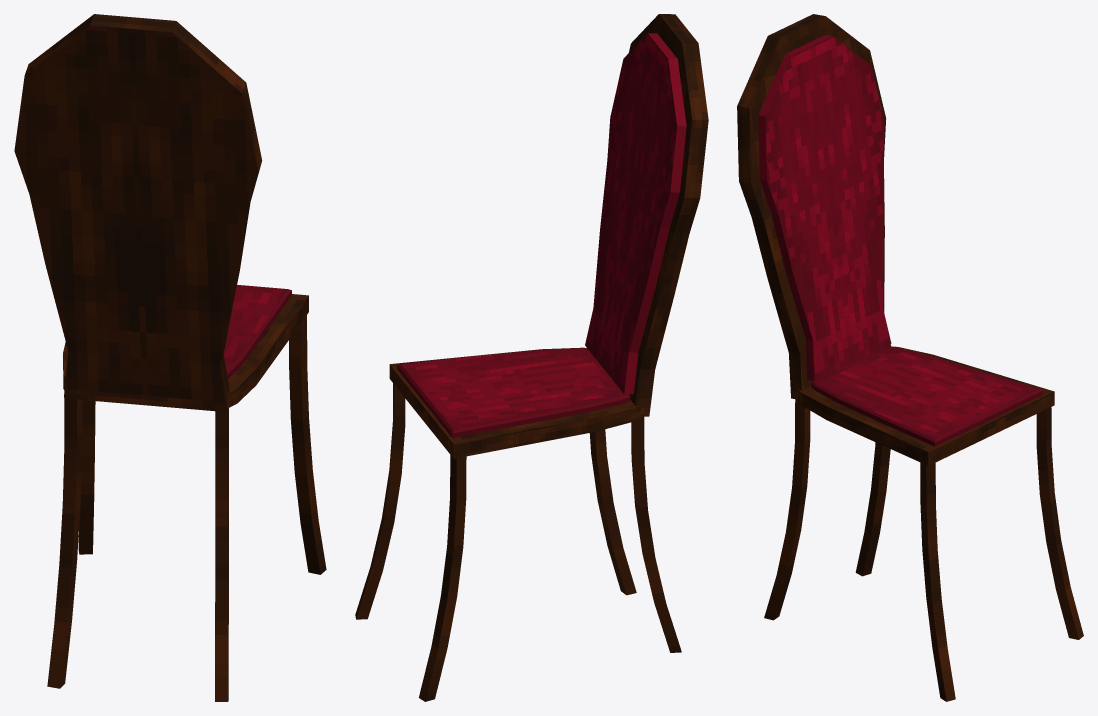
The model's file is E_Dining chair.fbx.
3 renders of one model, left to right at view 1: azimuth 30°, elevation 25°; view 2: azimuth 150°, elevation 25°; view 3: azimuth 270°, elevation 25°, orthographic. The views are drawn at different scales.
Visible parts, largest first — view 1: Cube.075; view 2: Cube.075; view 3: Cube.075.
Part boxes in pixels (x1=…): Cube.075: x1=14, y1=14, x2=326, y2=701; Cube.075: x1=355, y1=14, x2=708, y2=701; Cube.075: x1=737, y1=14, x2=1083, y2=701.
Size of the model in its own units: 154 by 282 by 158.
